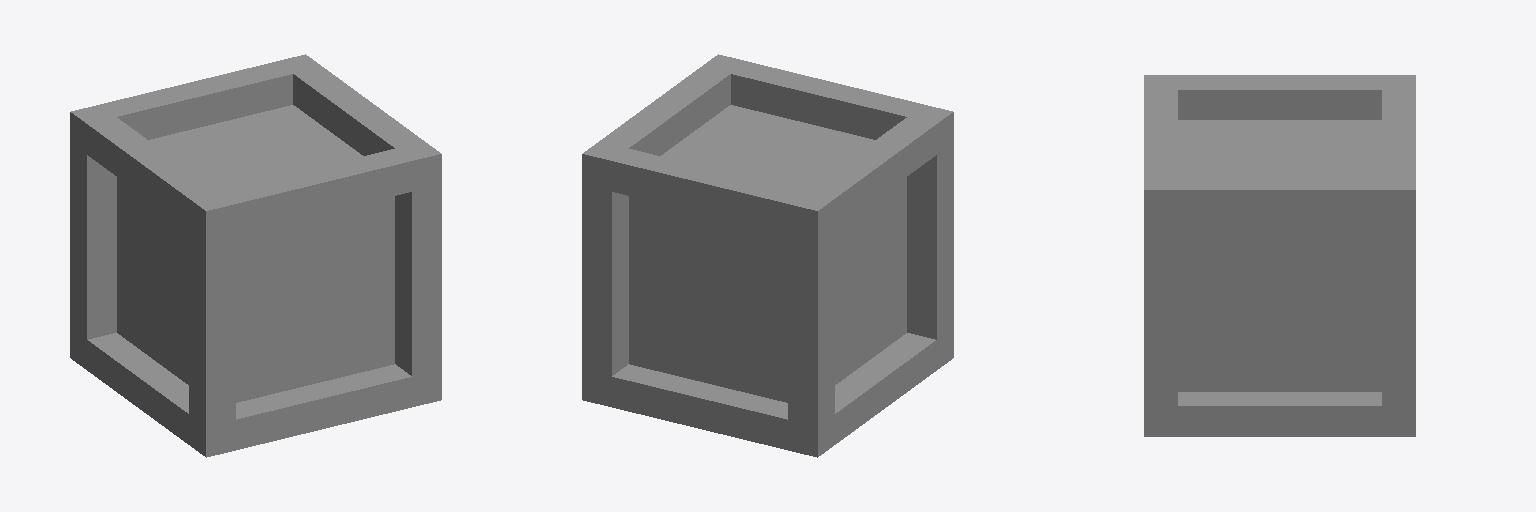
The model's file is waystone_model_simple_1.obj.
The picture shows the model from 3 angles: view 1: azimuth 30°, elevation 25°; view 2: azimuth 150°, elevation 25°; view 3: azimuth 270°, elevation 25°; orthographic projection.
Visible parts, largest first — view 1: Cube.001_Cube.003; view 2: Cube.001_Cube.003; view 3: Cube.001_Cube.003.
Boxes of the visible parts, x1,y1,x2,y2 form: Cube.001_Cube.003: [70, 54, 441, 457]; Cube.001_Cube.003: [582, 54, 953, 457]; Cube.001_Cube.003: [1144, 75, 1415, 436].
Size of the model in its own units: 0.5 by 0.5 by 0.5.